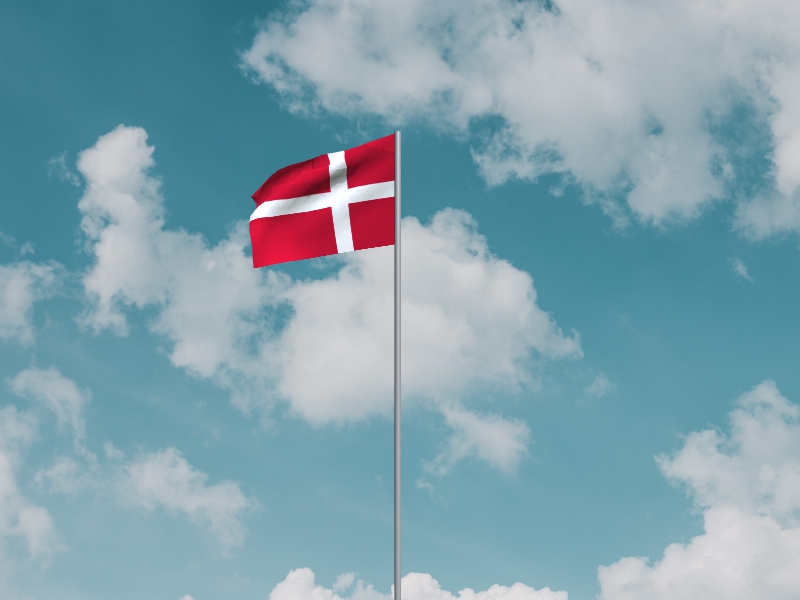dk: (249, 135, 395, 270)
